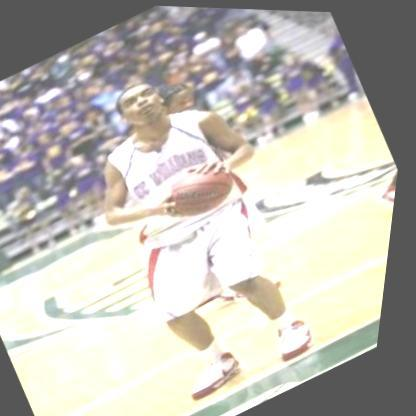basketball: (156, 146, 251, 228)
